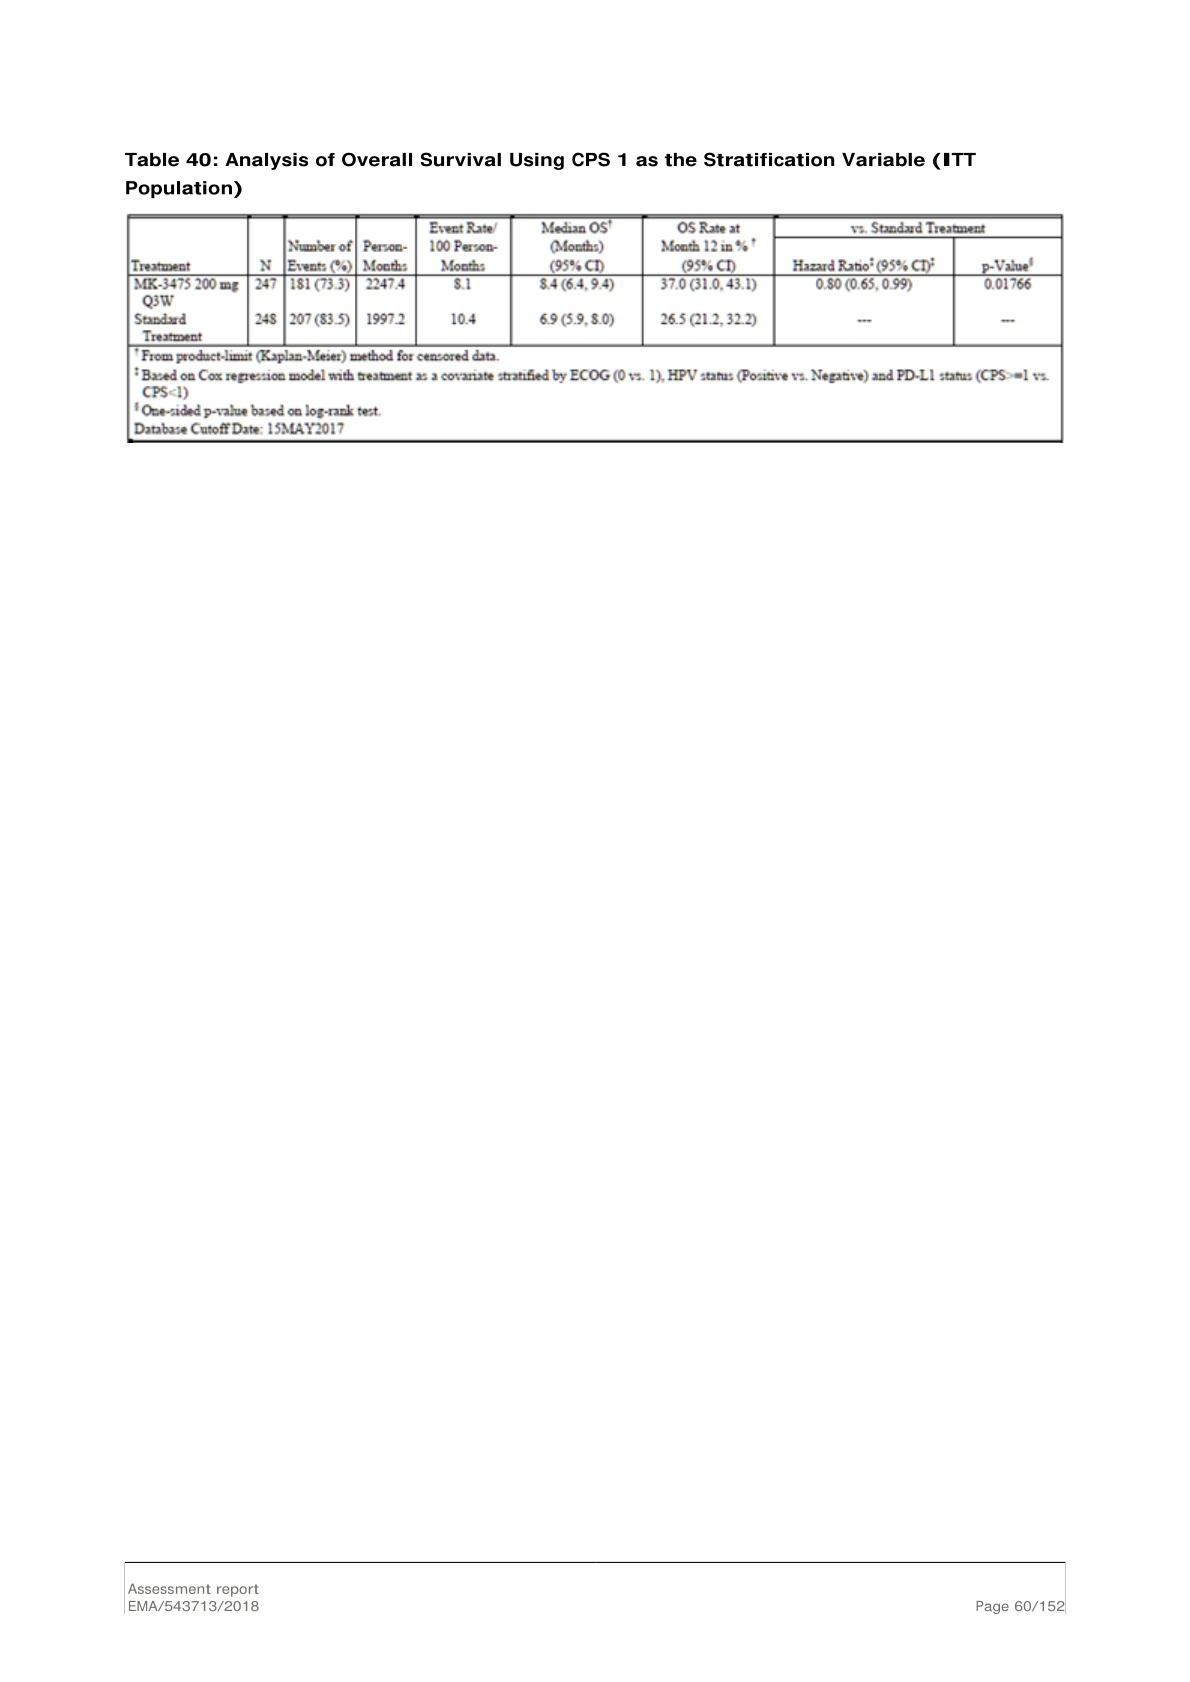merged_cells: (126, 213, 1065, 443)
